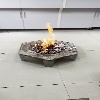fire: (34, 23, 58, 53)
